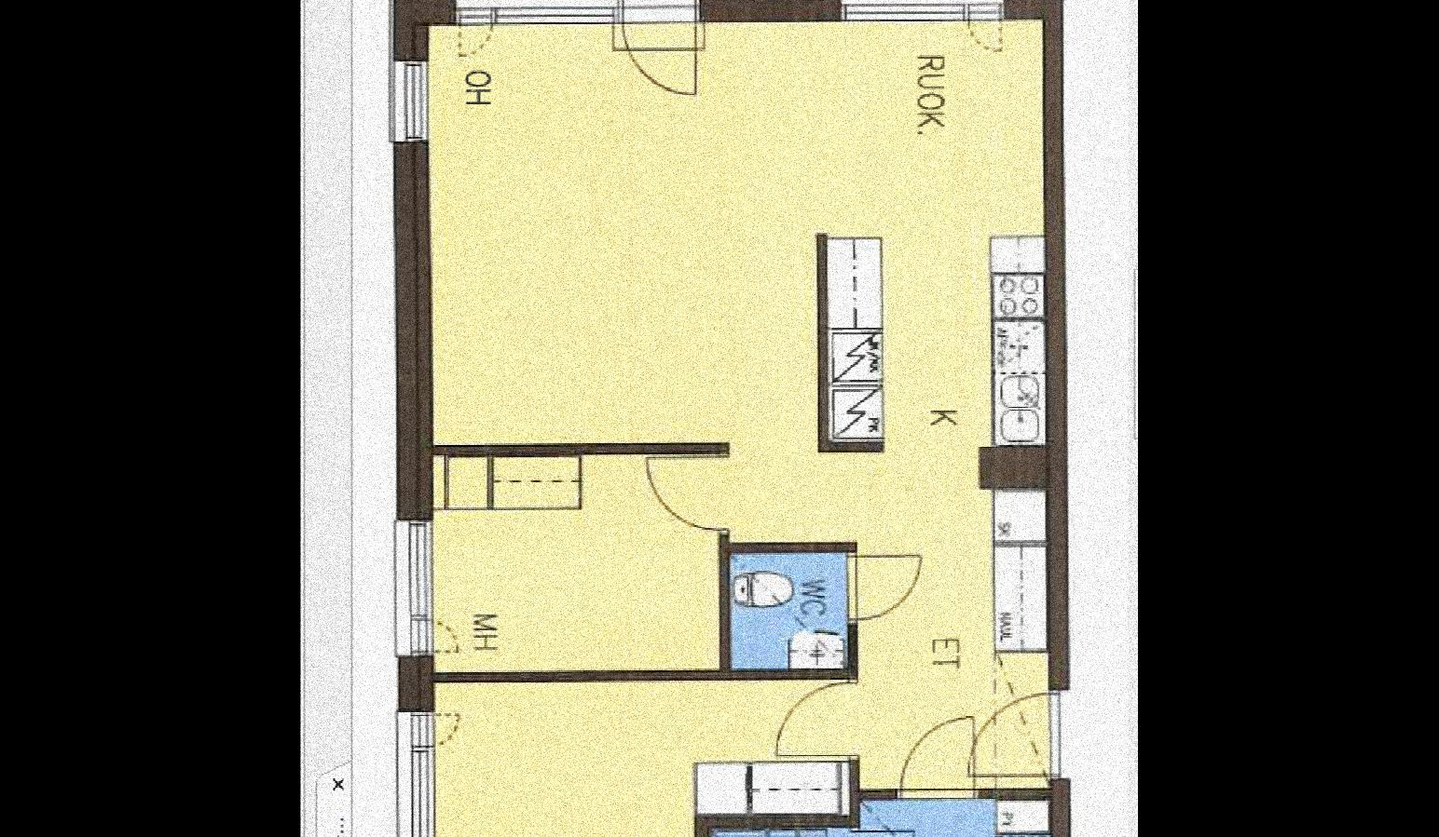door: (618, 0, 717, 108), (637, 446, 736, 535), (966, 692, 1061, 774), (898, 707, 975, 807), (767, 681, 863, 759), (844, 549, 936, 618), (458, 4, 502, 61), (968, 0, 1004, 57), (418, 617, 463, 649), (415, 717, 464, 745), (838, 824, 915, 837)
window: (391, 708, 432, 837), (395, 513, 430, 659), (457, 0, 619, 27), (840, 0, 1007, 22), (397, 54, 436, 137)
zone: (437, 20, 1040, 837), (439, 454, 717, 669)
